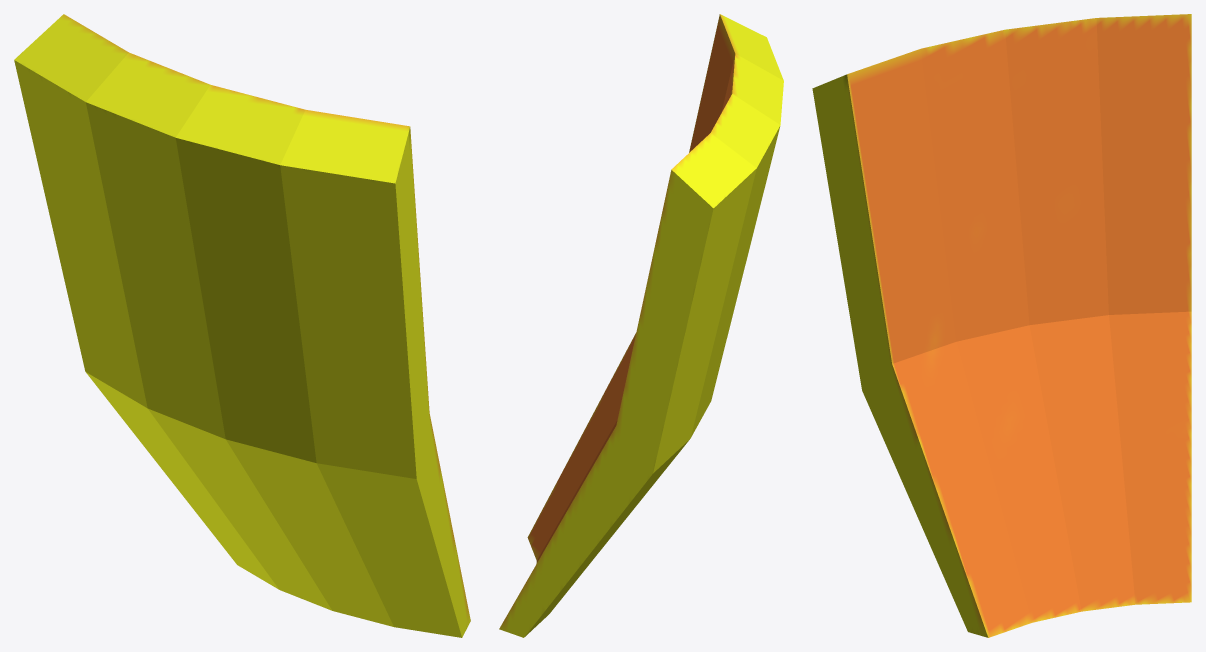
Rendered from Level_3_2.obj.
The picture shows the model from 3 angles, left to right: view 1: azimuth 30°, elevation 25°; view 2: azimuth 150°, elevation 25°; view 3: azimuth 270°, elevation 25°; orthographic projection. The views are drawn at different scales.
Visible parts, largest first — view 1: Level_3_2_Cylinder.038; view 2: Level_3_2_Cylinder.038; view 3: Level_3_2_Cylinder.038.
Part boxes in pixels (bbox=[...]): Level_3_2_Cylinder.038: bbox=[14, 14, 470, 637]; Level_3_2_Cylinder.038: bbox=[499, 14, 783, 637]; Level_3_2_Cylinder.038: bbox=[812, 14, 1191, 637].
Size of the model in its own units: 1.33 by 2.23 by 1.51.
